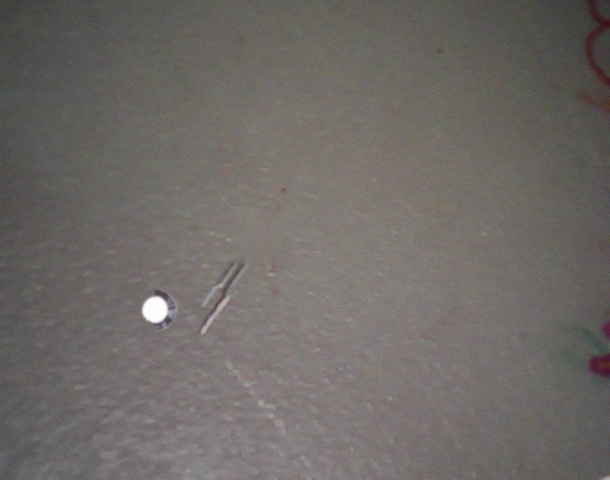capacitor: (142, 289, 177, 331)
